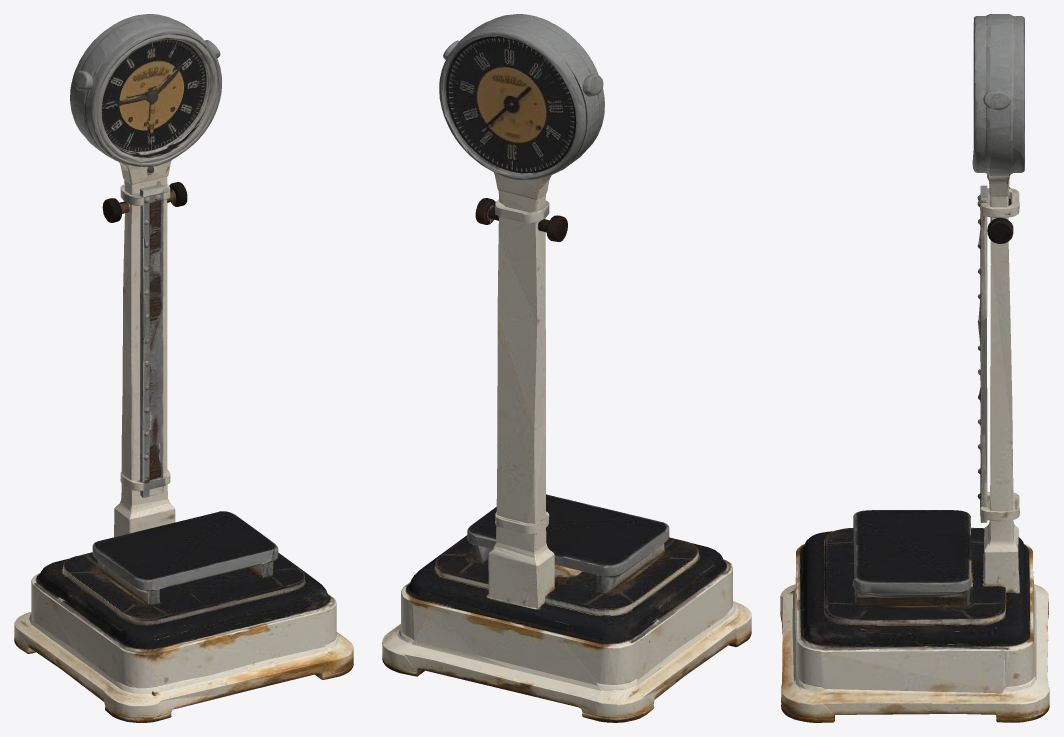
File: bilancia_N.glb
3 renders of one model, left to right at view 1: azimuth 30°, elevation 25°; view 2: azimuth 150°, elevation 25°; view 3: azimuth 270°, elevation 25°, orthographic. The views are drawn at different scales.
Parts seen in each view (by area): view 1: Mesh_0; view 2: Mesh_0; view 3: Mesh_0.
Part boxes in pixels (box(x1,y1,x2,y2)): Mesh_0: box(14, 14, 353, 722); Mesh_0: box(382, 14, 751, 722); Mesh_0: box(780, 14, 1049, 722).
Bounding box in the file's own units: 0.6205 × 1.5 × 0.5716.
Materials: 1 (1 with a texture image).
